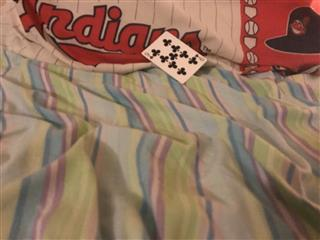NineOfClubs: (140, 30, 207, 84)
